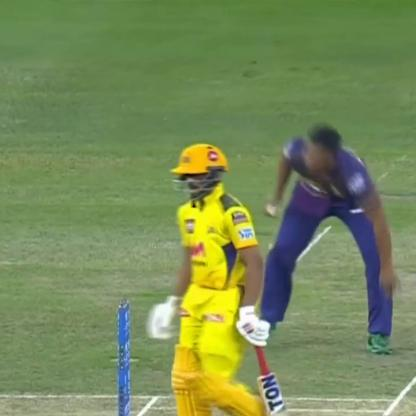ball: (264, 200, 287, 219)
